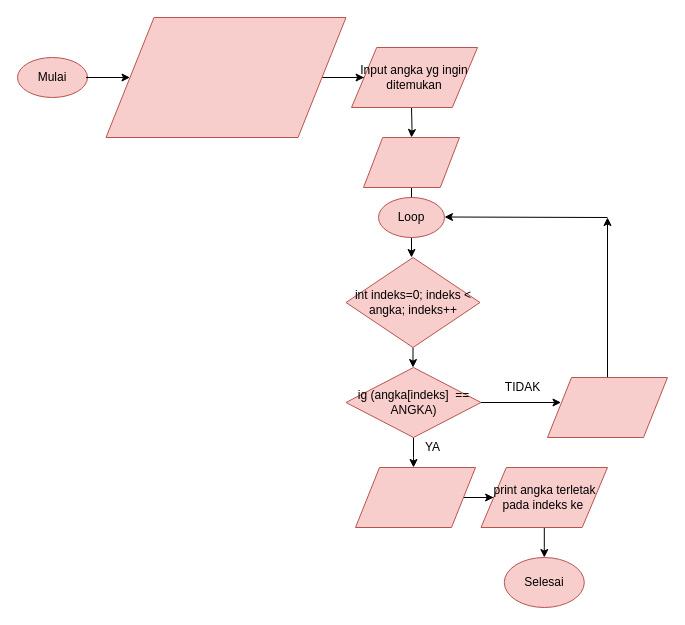
This 685x625 diagram has some shape labels left out. The shapes that lost their labels are listed below. From the top down, each one's centre as x and y in pixels, then its label:
At (225,77): "int[]angka = (82,12,41,38,19,26,9,48,20,55,8,32,3)".
At (411,162): "int ANGKA".
At (607,407): "Print angka tidak ditemukan pada indeks manapun".
At (415,497): "Print angka ditemukan".
